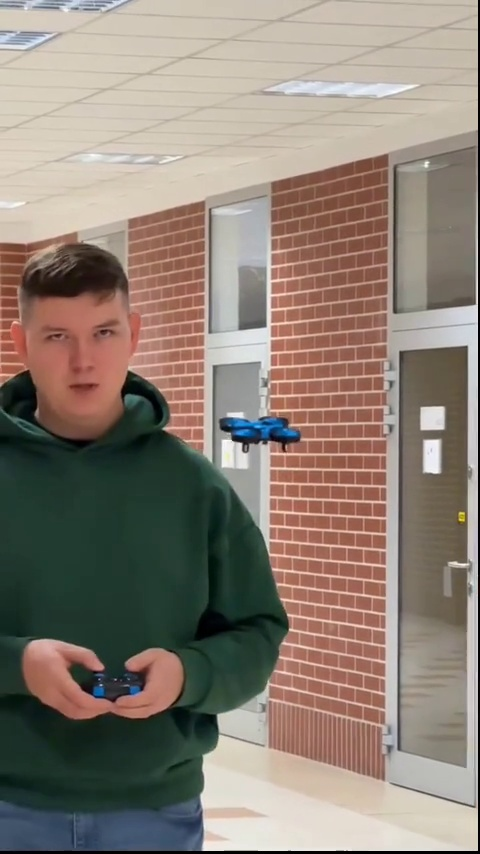drone: (223, 408, 298, 455)
no vest: (3, 241, 285, 853)
